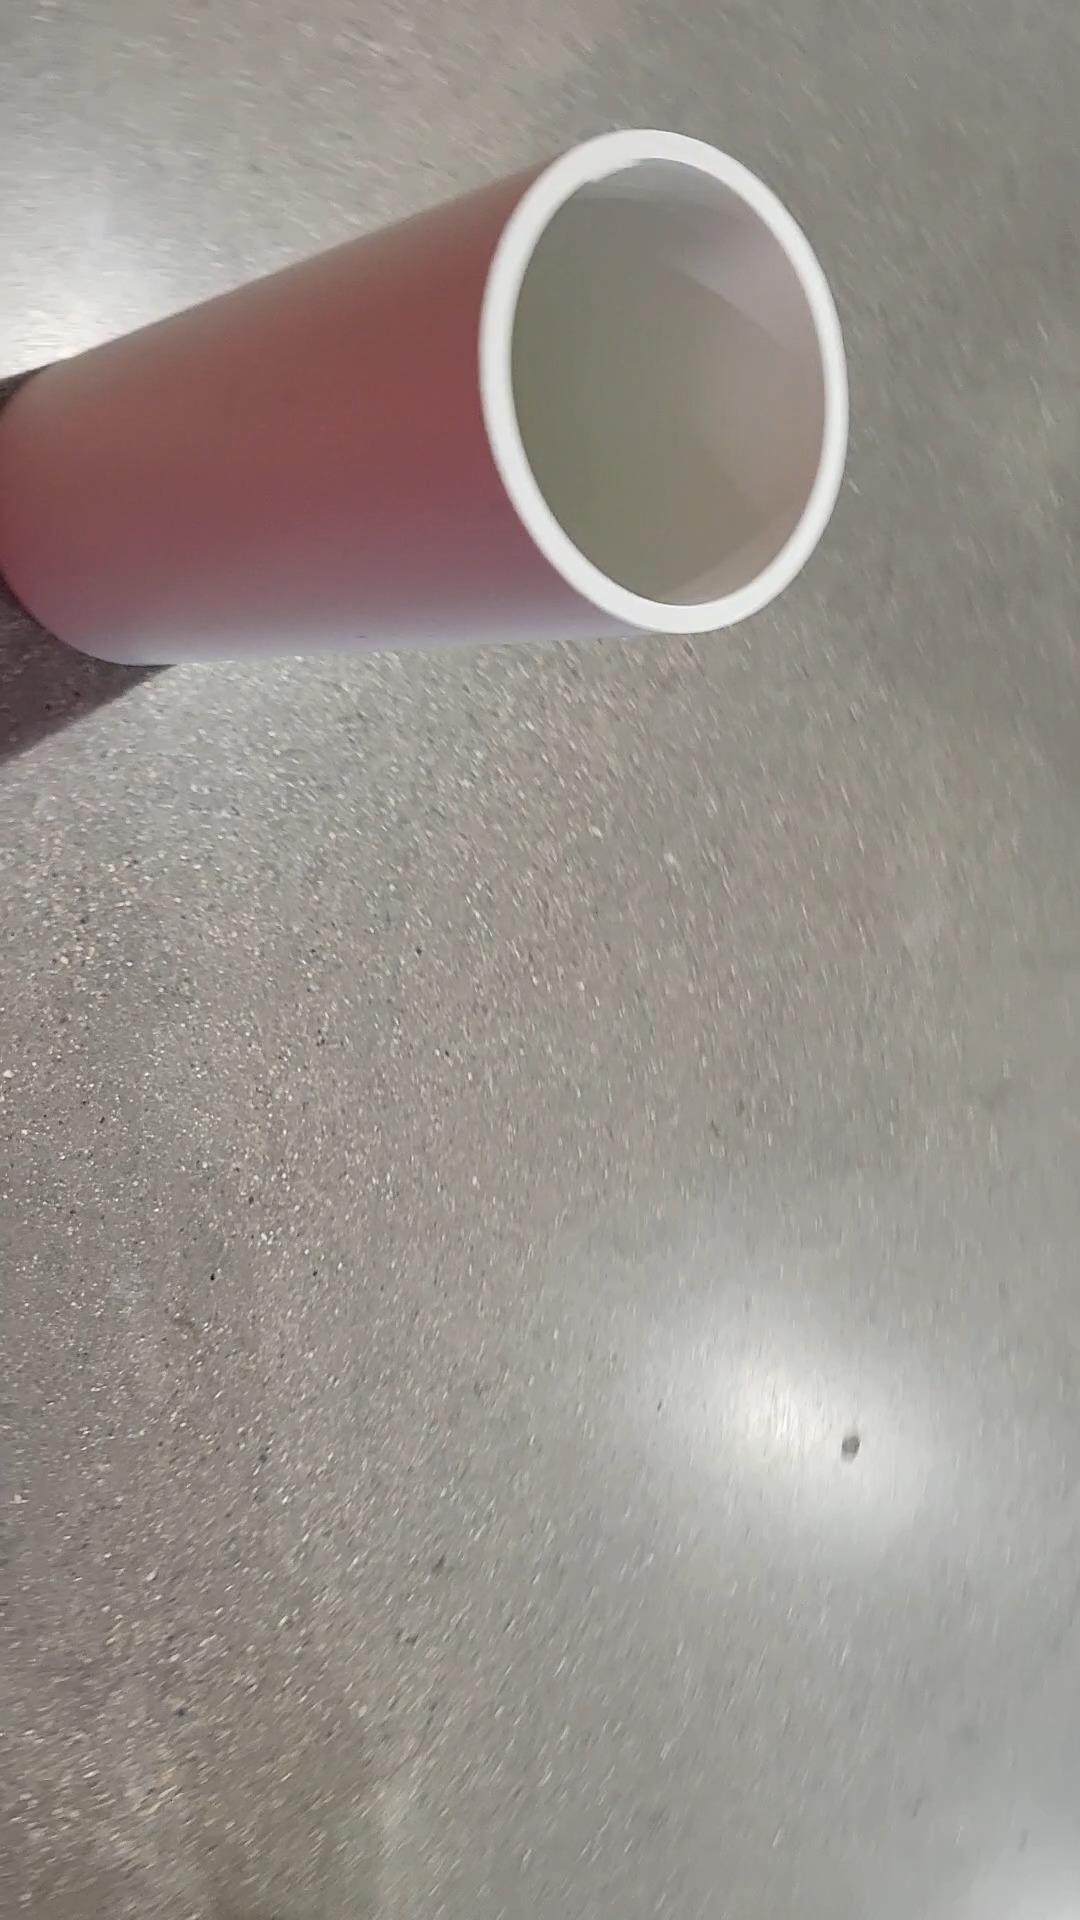coral: (0, 133, 851, 674)
